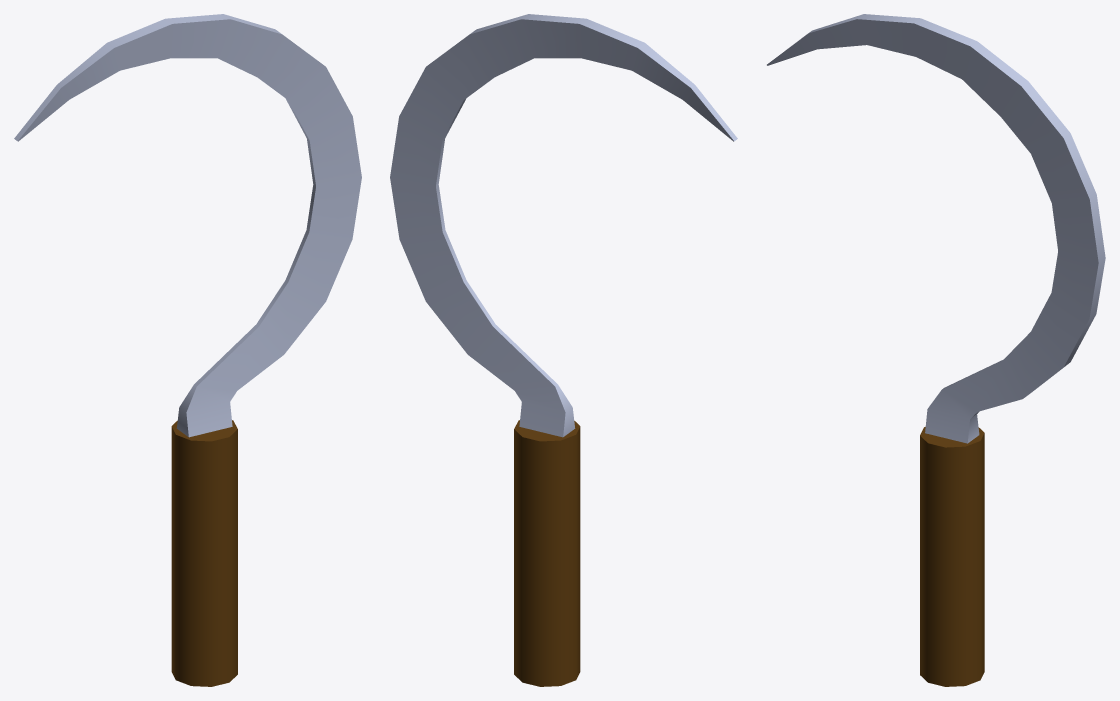
File: Sickle.fbx
The picture shows the model from 3 angles, left to right: view 1: azimuth 30°, elevation 25°; view 2: azimuth 150°, elevation 25°; view 3: azimuth 330°, elevation 25°; orthographic projection. The views are drawn at different scales.
Parts seen in each view (by area): view 1: Sickel; view 2: Sickel; view 3: Sickel.
Part boxes in pixels (x1,y1,x2,y2): Sickel: (14,14,361,686); Sickel: (390,14,737,686); Sickel: (767,14,1105,686).
Size of the model in its own units: 181 by 333 by 28.97.
